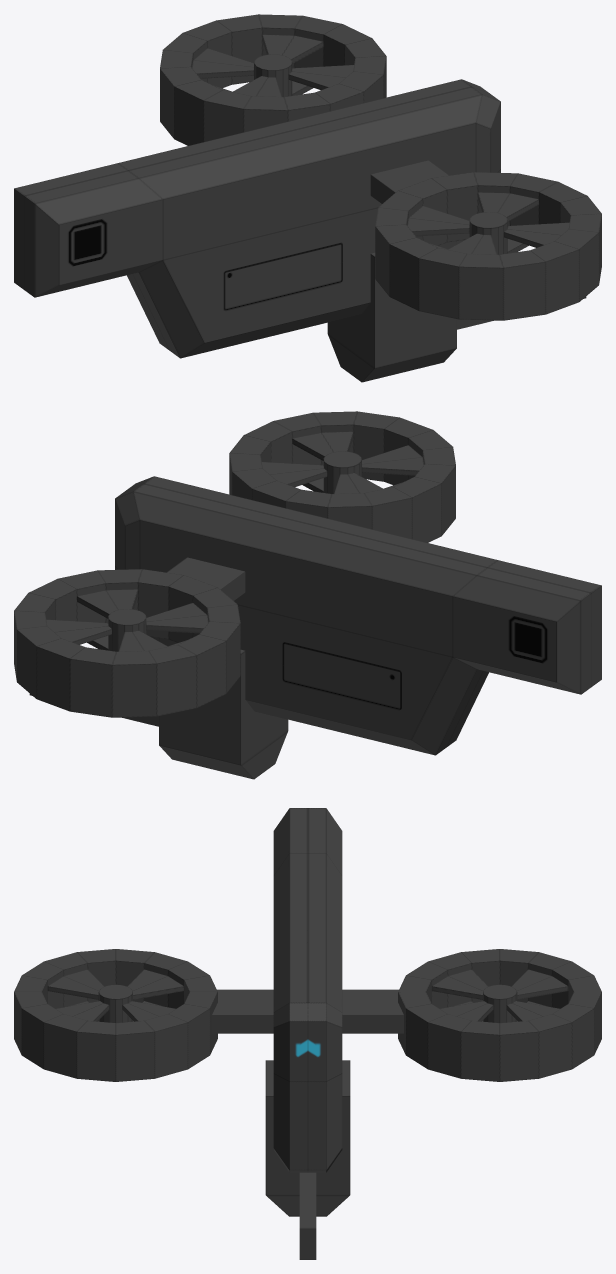
The model's file is Hew_1_1.fbx.
3 renders of one model, top to bottom at view 1: azimuth 30°, elevation 25°; view 2: azimuth 150°, elevation 25°; view 3: azimuth 270°, elevation 25°, orthographic. The views are drawn at different scales.
Visible parts, largest first — view 1: Cube, Cylinder.002, Cube.001, Cylinder.004, Cylinder.003, Cube.003; view 2: Cube, Cylinder.002, Cube.001, Cylinder.003, Cylinder.004, Cube.003; view 3: Cylinder.002, Cube, Cube.003, Cube.001, Cylinder.003, Cylinder.004, Cube.002.
Boxes of the visible parts, bbox=[...] form: Cube: bbox=[14, 79, 500, 358]; Cylinder.002: bbox=[160, 14, 601, 320]; Cube.001: bbox=[327, 241, 456, 382]; Cylinder.004: bbox=[407, 192, 569, 254]; Cylinder.003: bbox=[192, 34, 353, 96]; Cube.003: bbox=[370, 160, 448, 203]; Cube: bbox=[115, 476, 601, 755]; Cylinder.002: bbox=[14, 411, 455, 717]; Cube.001: bbox=[159, 638, 288, 779]; Cylinder.003: bbox=[46, 589, 208, 651]; Cylinder.004: bbox=[262, 431, 423, 493]; Cube.003: bbox=[167, 557, 245, 600]; Cylinder.002: bbox=[14, 949, 601, 1081]; Cube: bbox=[273, 808, 342, 1172]; Cube.003: bbox=[212, 989, 403, 1033]; Cube.001: bbox=[265, 1060, 350, 1216]; Cylinder.003: bbox=[432, 969, 568, 1021]; Cylinder.004: bbox=[47, 969, 183, 1021]; Cube.002: bbox=[299, 1172, 316, 1259].
Bounding box in the file's own units: 418 × 185 × 428.
1 material, 1 textured.
